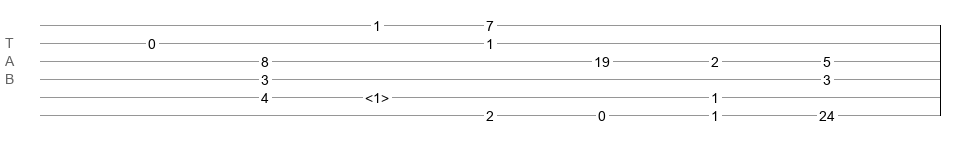0: (148, 36, 156, 46), (598, 108, 606, 118)
1: (373, 18, 381, 28), (486, 36, 494, 46), (711, 90, 719, 100), (711, 108, 719, 118)
19: (594, 54, 610, 64)
2: (486, 108, 494, 118), (711, 54, 719, 64)
24: (819, 108, 835, 118)
3: (261, 72, 269, 82), (823, 72, 831, 82)
4: (261, 90, 269, 100)
5: (823, 54, 831, 64)
7: (486, 18, 494, 28)
8: (261, 54, 269, 64)
harmonic: (365, 90, 389, 100)
